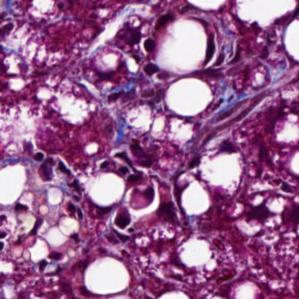inflammation: (228, 190, 299, 235), (29, 147, 77, 186), (124, 34, 163, 81)
